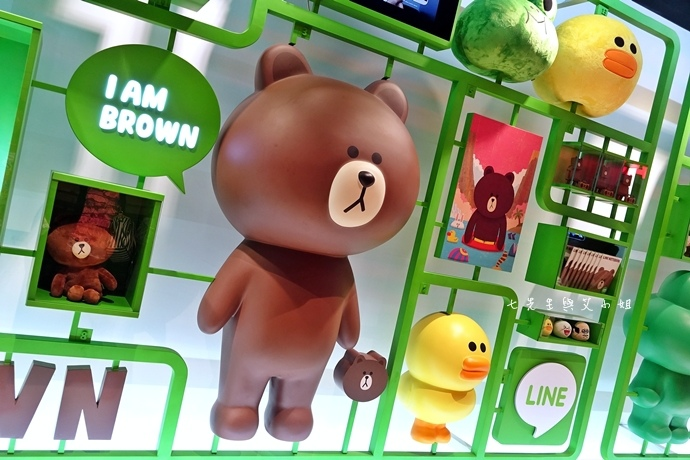line_brown: (217, 32, 434, 266), (334, 344, 395, 406), (475, 160, 518, 223)
